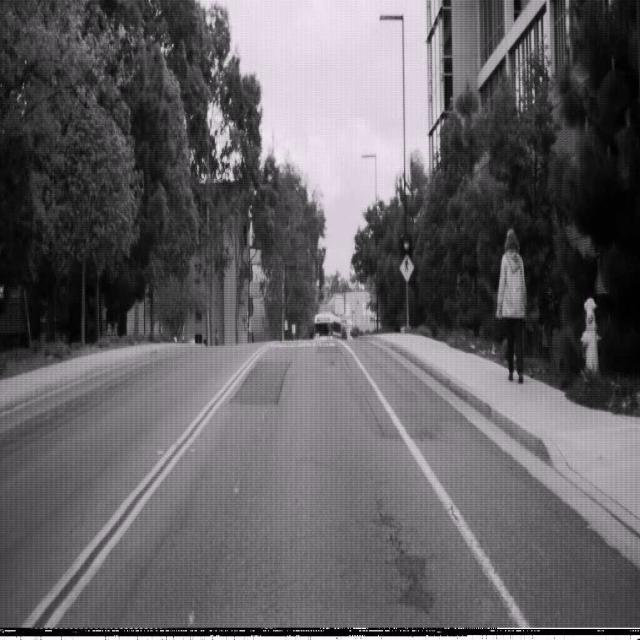pedestrianCrossing: (399, 252, 414, 284)
